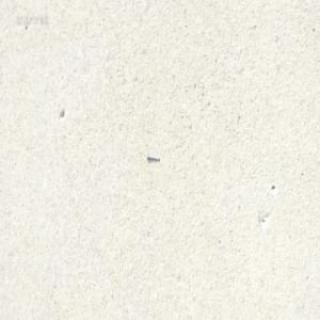Nailtrack_idkeyframe: (145, 152, 158, 160)
